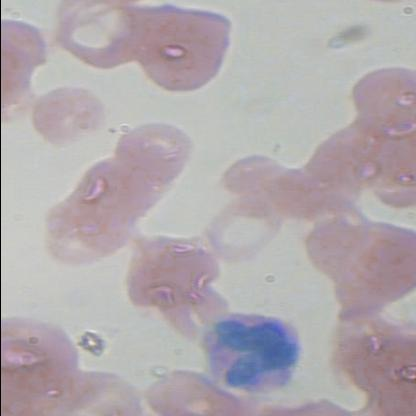RBC: (141, 2, 239, 96), (58, 0, 142, 72), (301, 211, 384, 282), (204, 192, 287, 262), (52, 202, 134, 272), (31, 82, 110, 152), (342, 64, 416, 136), (119, 119, 197, 176), (141, 363, 216, 415), (1, 5, 51, 76)
WBC: (202, 304, 307, 404)
